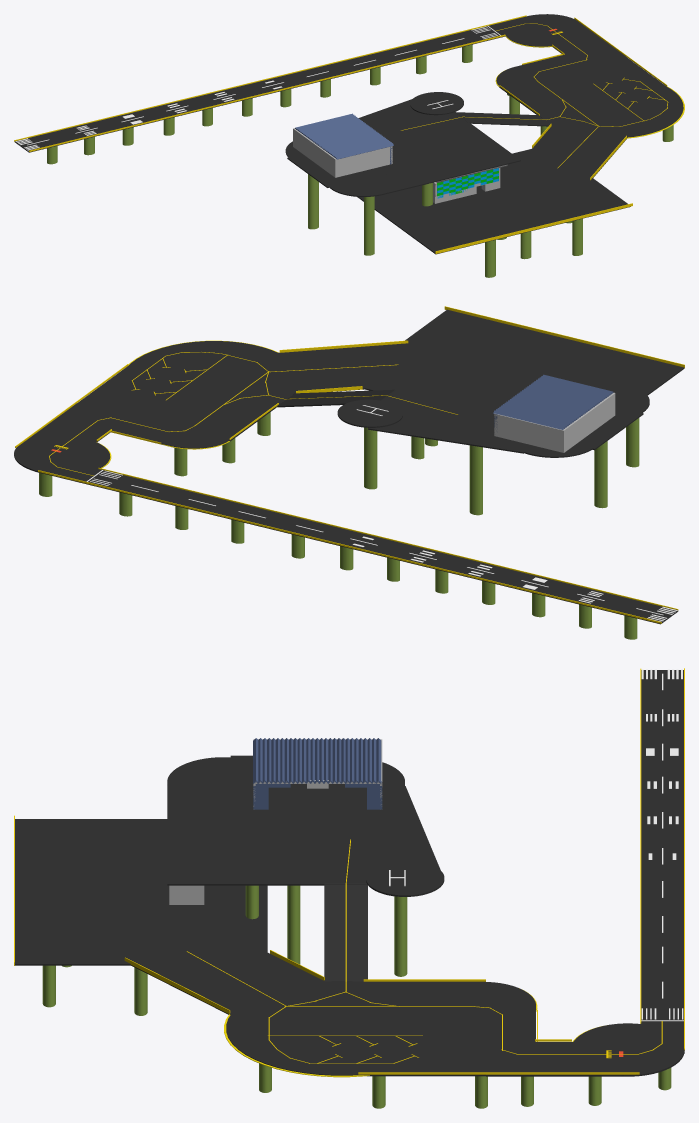
Rendered from tav1.glb.
3 views of the same model, one above another, from view 1: azimuth 30°, elevation 25°; view 2: azimuth 150°, elevation 25°; view 3: azimuth 270°, elevation 25° (orthographic). The views are drawn at different scales.
Visible parts, largest first — view 1: mesh (×14), cylinder (×8), group, group13, group12; view 2: mesh (×14), cylinder (×11), group; view 3: mesh (×11), cylinder (×9), group.
Boxes of the visible parts, <box> form: mesh (×14): <box>14,15,667,254</box>; cylinder (×8): <box>308,14,683,255</box>; group: <box>520,17,667,91</box>; group13: <box>437,178,467,198</box>; group12: <box>468,168,498,188</box>; mesh (×14): <box>35,306,684,624</box>; cylinder (×11): <box>14,341,649,515</box>; group: <box>15,364,212,455</box>; mesh (×11): <box>15,668,684,1076</box>; cylinder (×9): <box>167,757,684,1076</box>; group: <box>358,1005,639,1076</box>.
Size of what is drawn, in the model's own units: 44.05 by 6.9 by 30.74.
Materials: 18 (17 with a texture image).
